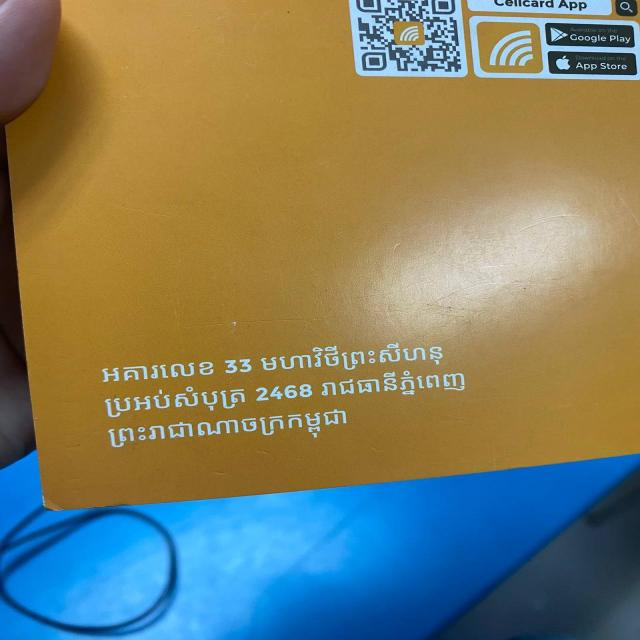53: (95, 366, 473, 420)
64: (86, 336, 459, 390)
Yolov11_80vkh: (95, 406, 357, 452)
